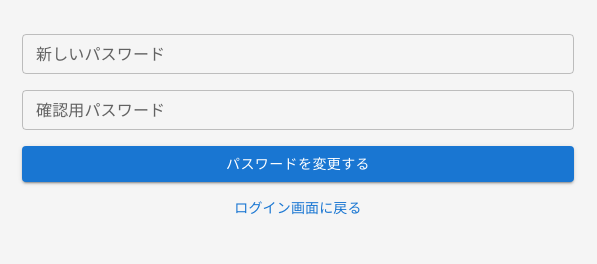
Test case: PasswordResetPage › AUTH-FE-059: 500 エラー時にサーバーエラーメッセージが表示されてフォームが維持される
Type "NewPass1!" into the password field labelled "新しいパスワード" at (298, 54), box [22, 34, 574, 74]
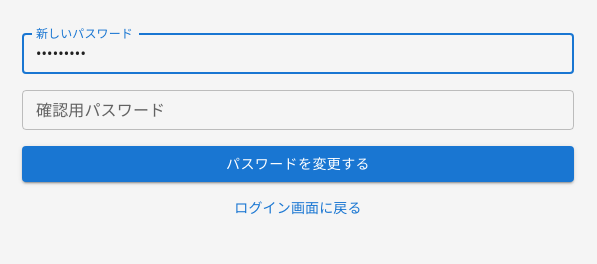
Type "NewPass1!" into the password field labelled "確認用パスワード" at (298, 110), box [22, 90, 574, 130]
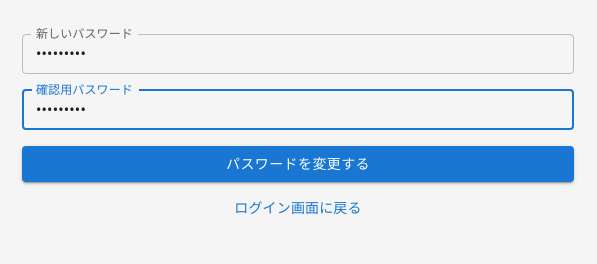
Click the button "パスワードを変更する" at (298, 164), box [22, 146, 574, 182]
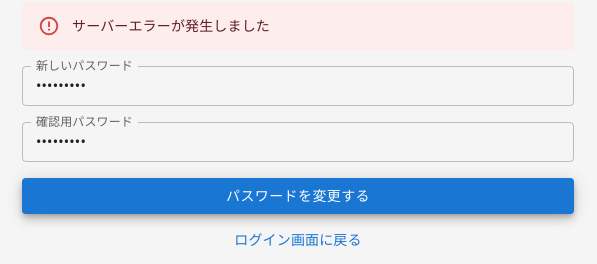
expect the text "サーバーエラーが発生しました" is shown: met, box [72, 18, 270, 34]
